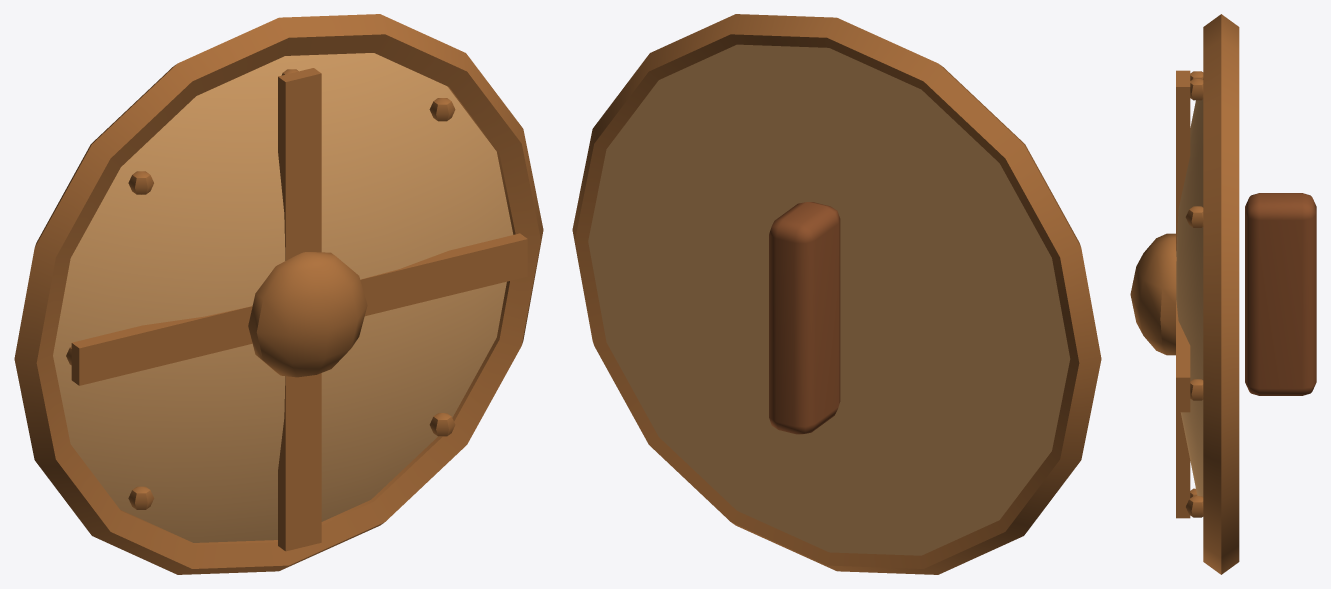
File: WoodShield.fbx
The picture shows the model from 3 angles, left to right: view 1: azimuth 30°, elevation 25°; view 2: azimuth 150°, elevation 25°; view 3: azimuth 270°, elevation 25°; orthographic projection. The views are drawn at different scales.
Visible parts, largest first — view 1: WoodShield; view 2: WoodShield; view 3: WoodShield.
Part boxes in pixels (x1=…): WoodShield: x1=14, y1=14, x2=543, y2=574; WoodShield: x1=572, y1=14, x2=1101, y2=574; WoodShield: x1=1130, y1=14, x2=1316, y2=574.
Bounding box in the file's own units: 2.36 × 2.36 × 0.782.
1 material, 1 textured.
